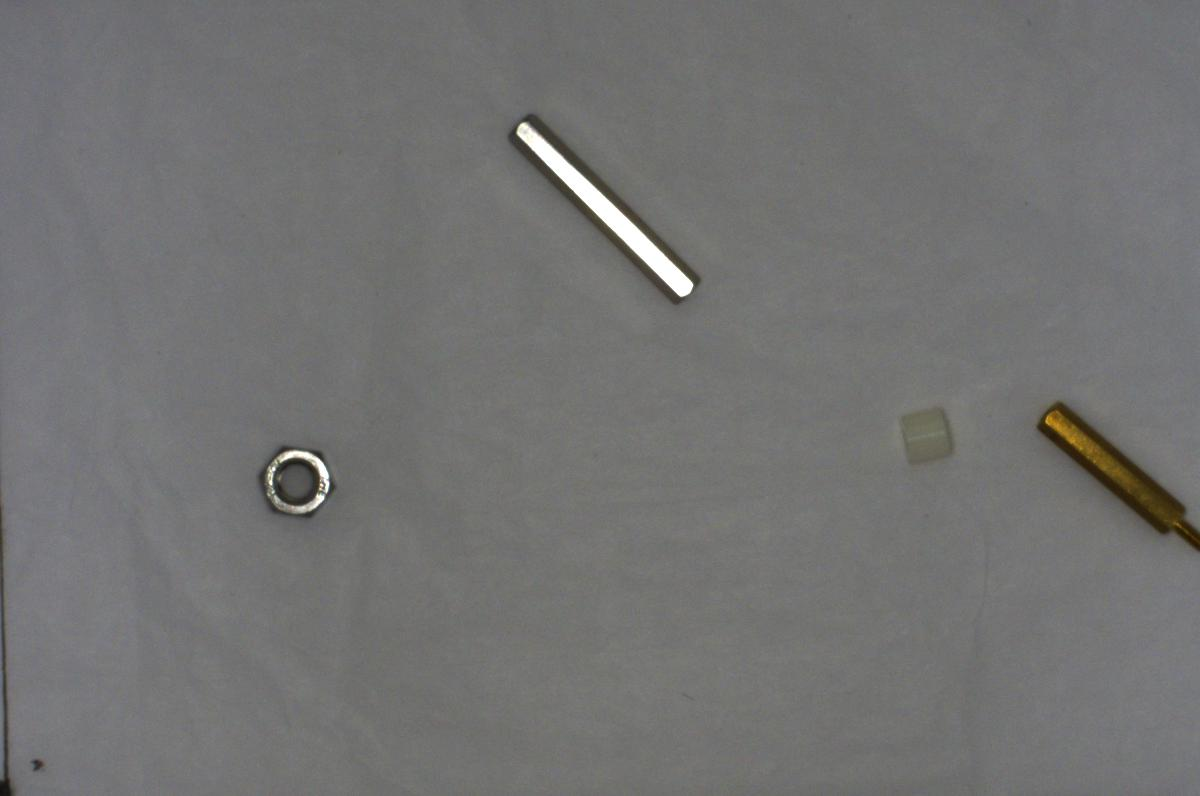Double hexagonal column: (508, 106, 701, 301)
Hexagon nut: (244, 432, 344, 523)
Hexagon pillar: (1030, 396, 1199, 554)
Plastic cushion pillar: (881, 396, 965, 472)
